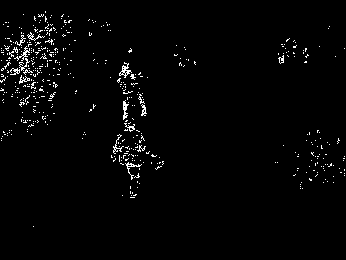person: (109, 117, 166, 200), (115, 61, 147, 120)
